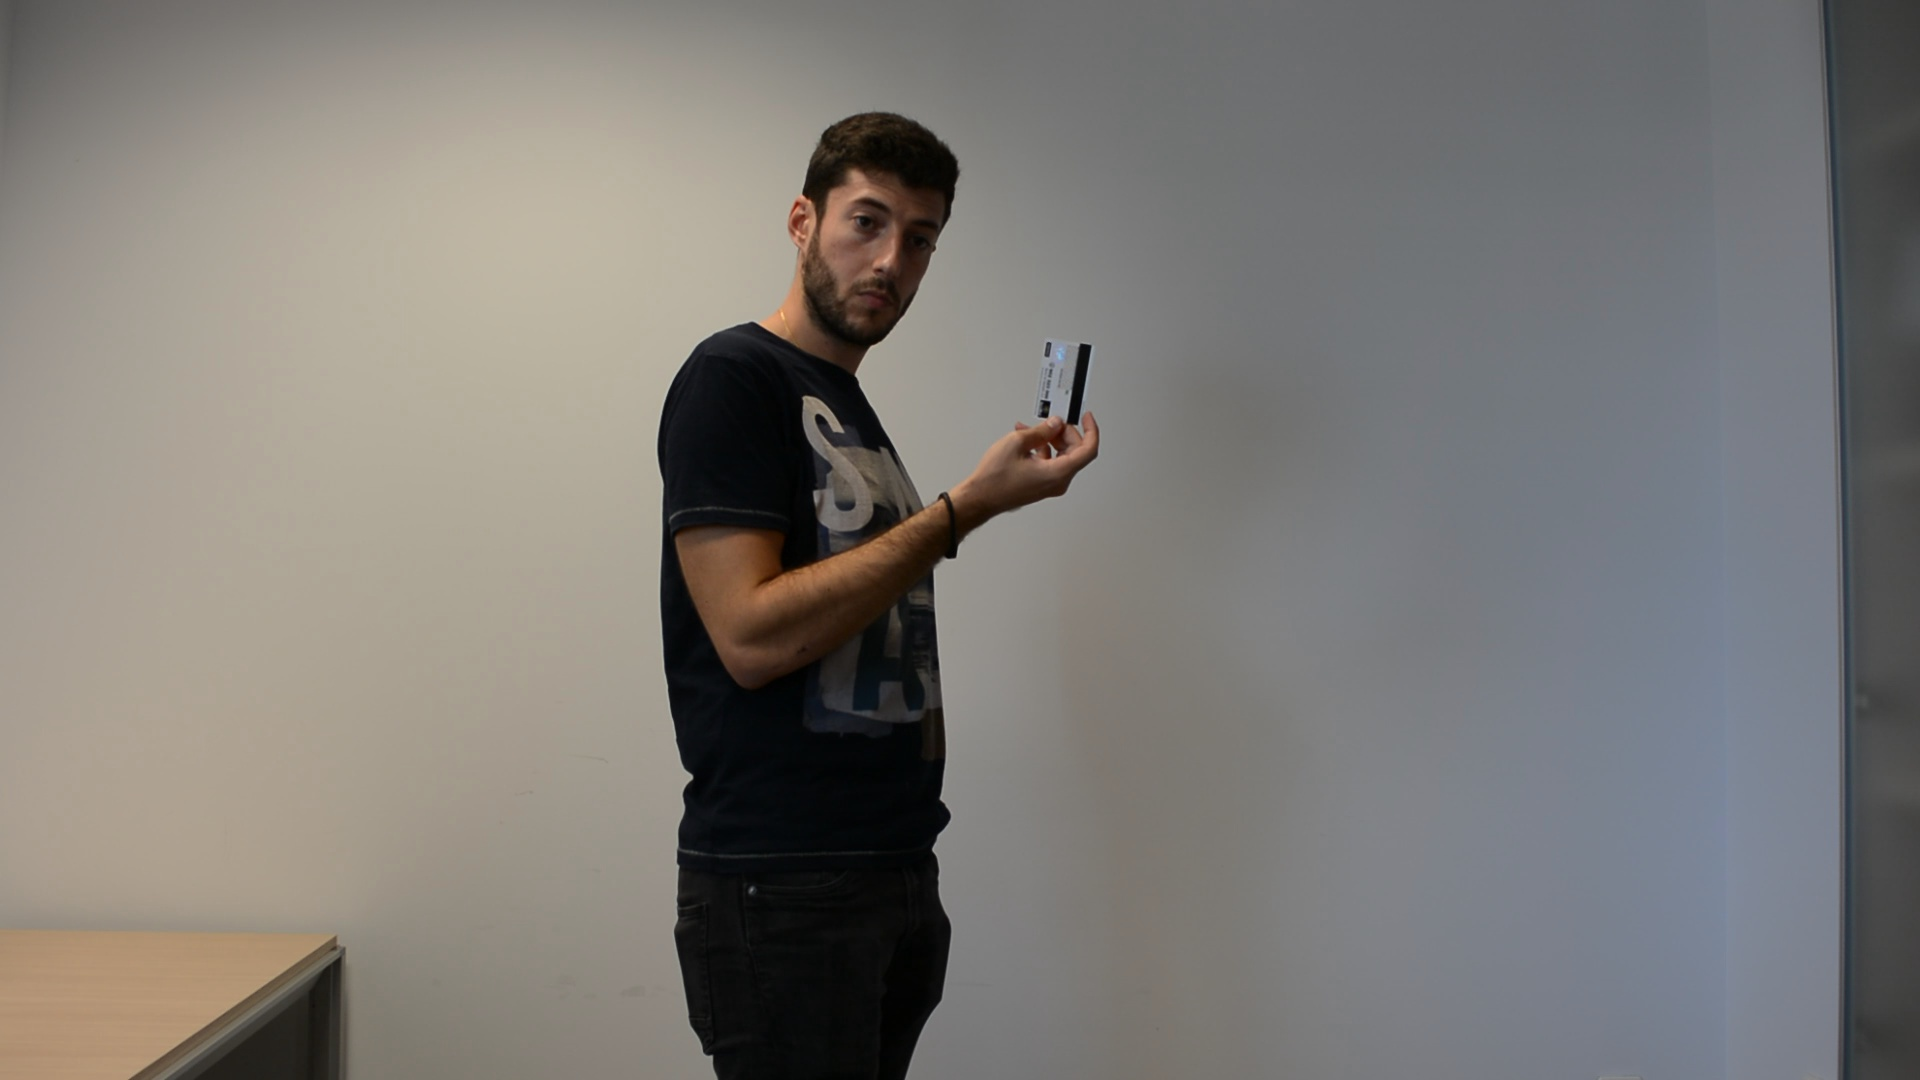tarjeta: (1025, 338, 1102, 430)
